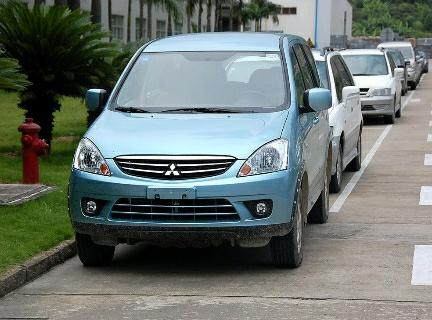car: (66, 31, 336, 284), (316, 34, 408, 125)
